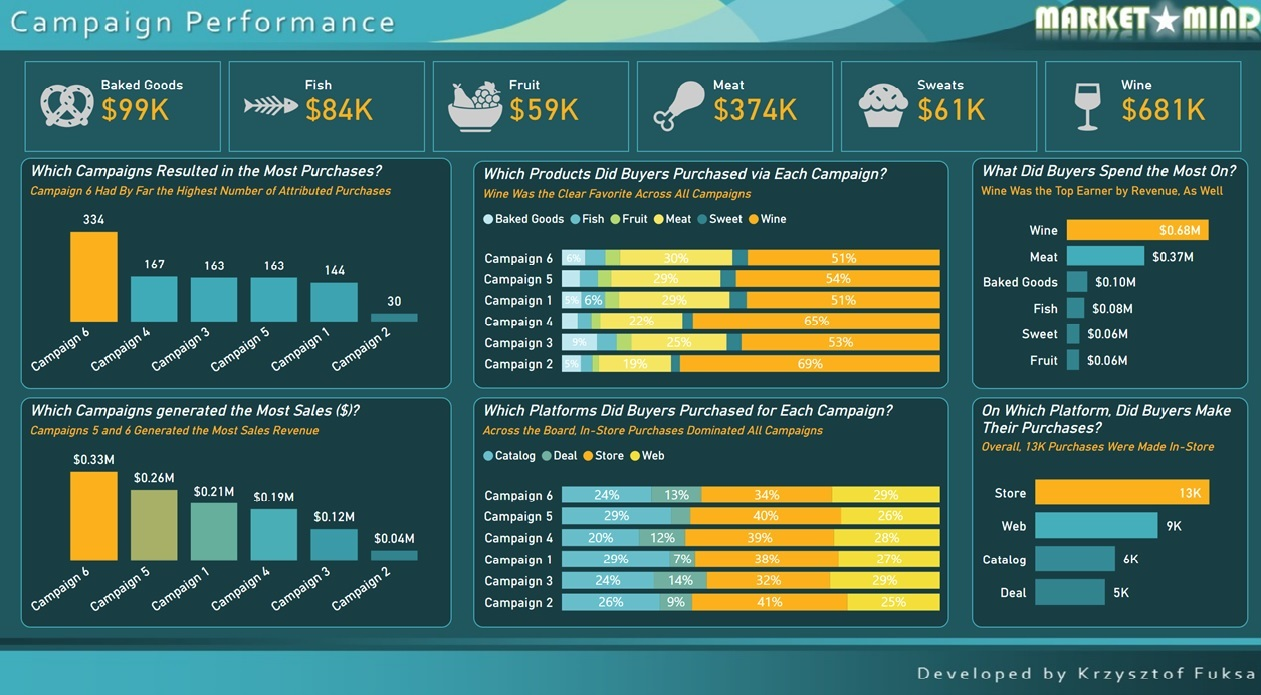

This screenshot's page, from the dashboard's own definition file:
{"tool":"powerbi","page":{"name":"Campaign Performance","canvas":[1280,720],"ordinal":0},"visuals":[{"type":"columnChart","title":"Which Campaigns Resulted in the Most Purchases?","fields":{"Category":["campaign.Campaign"],"Y":["Sum(campaign.Accepted_Ind)"]},"box":[20.9,162.6,435.2,238.5],"z":0},{"type":"columnChart","title":"Which Campaigns generated the Most Sales ($)?","fields":{"Y":["Sum(products.Total Sales)"],"Category":["campaign.Campaign"]},"box":[20.9,409.9,435.2,237.4],"z":1000},{"type":"hundredPercentStackedBarChart","title":"Which Products Did Buyers Purchased via Each  Campaign?","fields":{"Y":["Sum(products.Total Sales)"],"Category":["campaign.Campaign"],"Series":["products.Product"]},"box":[478,165.9,480.2,235.2],"z":2000},{"type":"barChart","title":"What Did Buyers Spend the Most On?","fields":{"Category":["products.Product"],"Y":["Sum(products.Total Sales)"]},"box":[981.3,162.6,279.1,238.5],"z":3000},{"type":"hundredPercentStackedBarChart","title":"Which Platforms Did Buyers Purchased for Each Campaign?","fields":{"Category":["campaign.Campaign"],"Y":["Sum(platform.Qty)"],"Series":["platform.Platform"]},"box":[478,409.9,480.2,237.4],"z":4000},{"type":"barChart","title":"On Which Platform, Did Buyers Make Their Purchases?","fields":{"Category":["platform.Platform"],"Y":["Sum(platform.Qty)"]},"box":[981.3,409.9,279.1,237.4],"z":5000},{"type":"cardVisual","fields":{"Data":["Sum(marketing_data.Amount_Baked_Products)","Sum(marketing_data.Amount_Fish_Products)","Sum(marketing_data.Amount_Fruit_Products)","Sum(marketing_data.Amount_Meat_Products)","Sum(marketing_data.Amount_Sweet_Products)","Sum(marketing_data.Amount_Wine_Products)"]},"box":[19.8,58.1,1240.2,104.9],"z":6000}]}

Visuals, with their boxes in screenshot pixels (x1, y1, x2, y2), scaled from the page's 1280x720 canvas onto the 1261x695 screenshot:
"Which Campaigns Resulted in the Most Purchases?" columnChart: left=21, top=157, right=449, bottom=387
"Which Campaigns generated the Most Sales ($)?" columnChart: left=21, top=396, right=449, bottom=625
"Which Products Did Buyers Purchased via Each  Campaign?" hundredPercentStackedBarChart: left=471, top=160, right=944, bottom=387
"What Did Buyers Spend the Most On?" barChart: left=967, top=157, right=1242, bottom=387
"Which Platforms Did Buyers Purchased for Each Campaign?" hundredPercentStackedBarChart: left=471, top=396, right=944, bottom=625
"On Which Platform, Did Buyers Make Their Purchases?" barChart: left=967, top=396, right=1242, bottom=625
cardVisual - Sum(marketing_data.Amount_Baked_Products) x Sum(marketing_data.Amount_Fish_Products): left=20, top=56, right=1241, bottom=157
